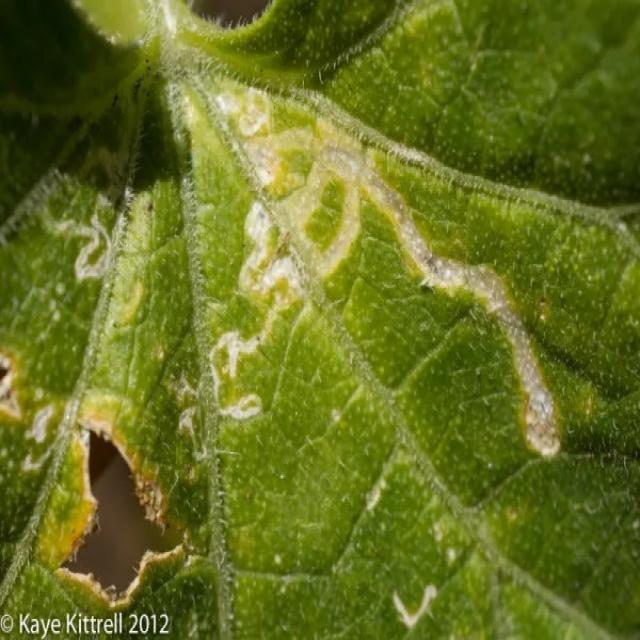Serpentine leafminer: (163, 76, 575, 476), (26, 412, 192, 610), (45, 172, 154, 294), (370, 576, 460, 640), (0, 332, 28, 455)
